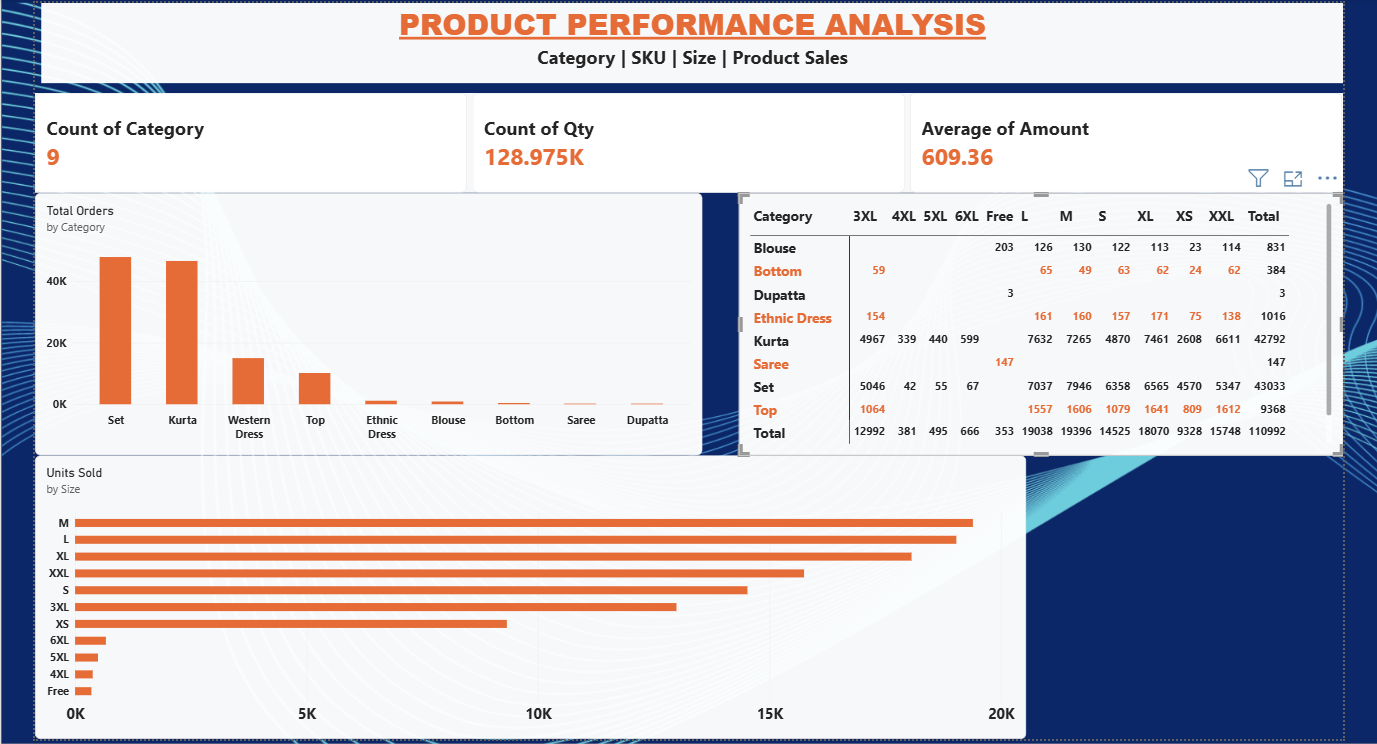

What the dashboard file says about the page in this screenshot:
{"tool":"powerbi","page":{"name":"product","canvas":[1920,1080],"ordinal":1},"visuals":[{"type":"pivotTable","fields":{"Columns":["SALES.Size"],"Rows":["SALES.Category"],"Values":["Measures (2).Units Sold"]},"box":[1032.7,278.8,887.8,385.2],"z":1},{"type":"clusteredBarChart","fields":{"Category":["SALES.Size"],"Y":["Measures (2).Units Sold"]},"box":[0,664,1454.6,416.4],"z":2},{"type":"textbox","box":[9.2,0,1911.3,117.4],"z":3},{"type":"cardVisual","fields":{"Data":["Count(SALES.Category)","CountNonNull(SALES.Qty)","Avg(SALES.Amount)"]},"box":[0,132.1,1920.5,146.7],"z":4},{"type":"clusteredColumnChart","fields":{"Category":["SALES.Category"],"Y":["Measures (2).Total Orders"]},"box":[0,278.8,979.5,385.2],"z":5}]}

Visuals, with their boxes on the page's 1920x1080 design canvas (x1, y1, x2, y2). These are canvas units, not pixel positions in the 1377x744 screenshot, which may show the page scaled, cropped or inside an application window:
pivotTable - SALES.Size x SALES.Category: box(1033, 279, 1920, 664)
clusteredBarChart - SALES.Size x Measures (2).Units Sold: box(0, 664, 1455, 1080)
textbox: box(9, 0, 1920, 117)
cardVisual - Count(SALES.Category) x CountNonNull(SALES.Qty): box(0, 132, 1920, 279)
clusteredColumnChart - SALES.Category x Measures (2).Total Orders: box(0, 279, 980, 664)
